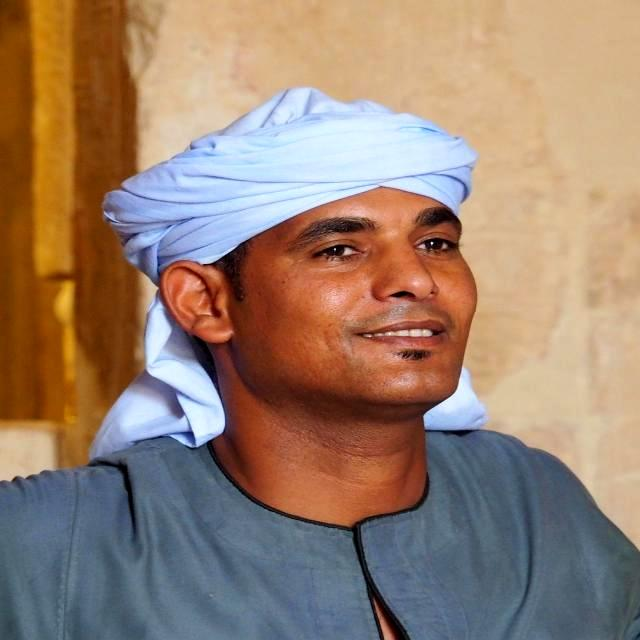no_hard_hat: (105, 88, 477, 284)
person: (2, 188, 639, 640)
